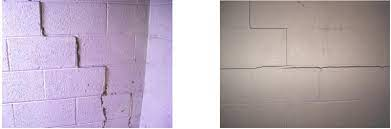stairstep_crack: (218, 0, 390, 71), (34, 0, 107, 126)
